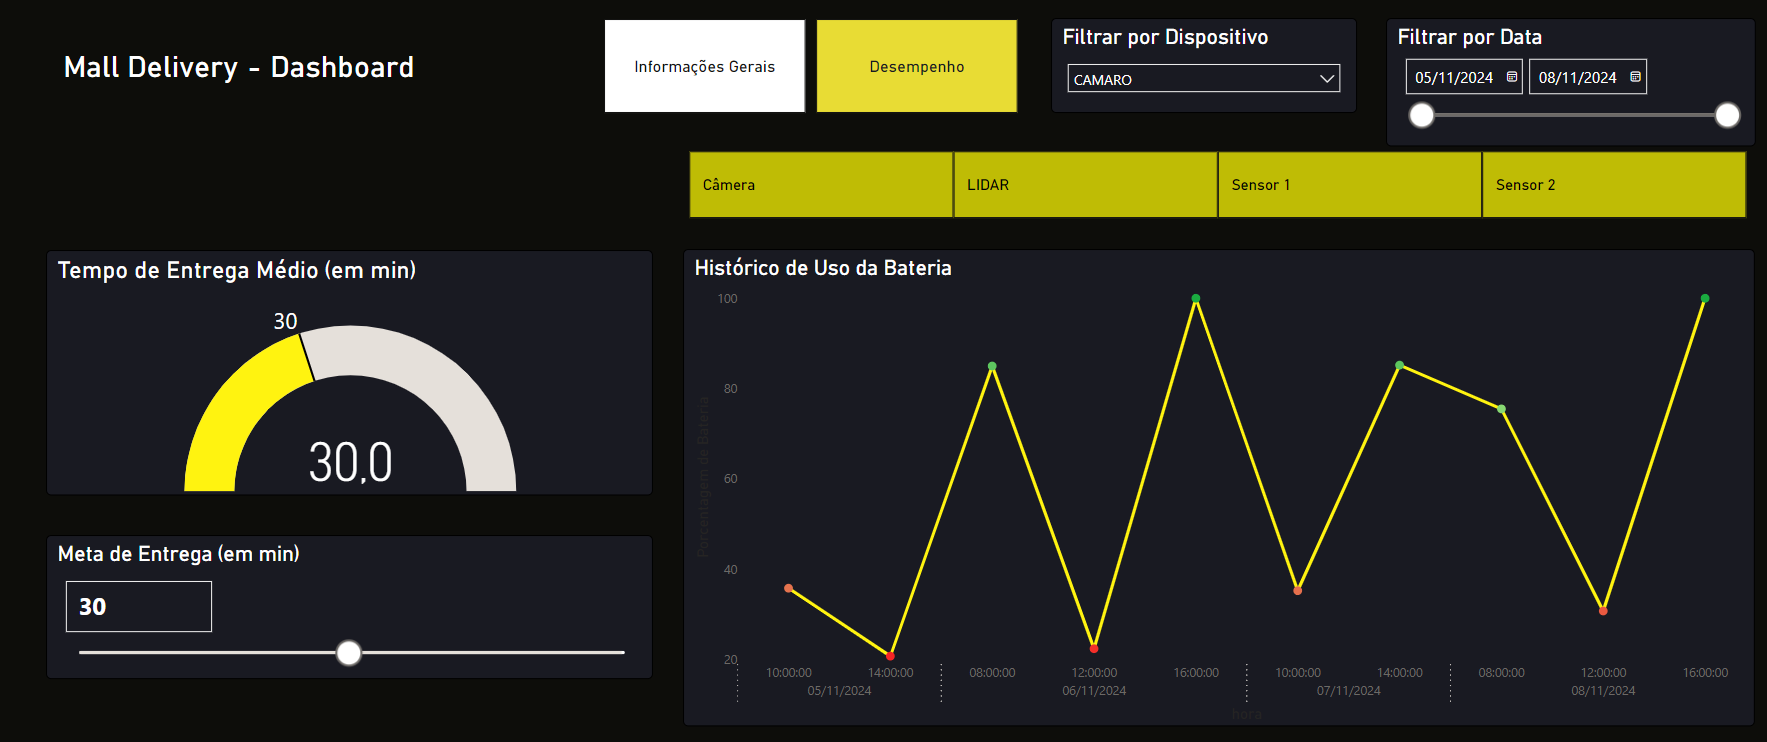

The page's visual inventory and layout, read from the dashboard file:
{"tool":"powerbi","page":{"name":"Desempenho","canvas":[1700,720],"ordinal":1},"visuals":[{"type":"textbox","box":[58.4,44.7,359.7,65.3],"z":0},{"type":"lineChart","title":"Histórico de Uso da Bateria","fields":{"Y":["Max(registro_bateria.porcentagem_bateria)"],"Category":["registro_bateria.data.Variation.Hierarquia de datas.Ano","registro_bateria.hora"]},"box":[656.5,241.3,1026.4,456.8],"z":1000},{"type":"slicer","title":"Filtrar por Data","fields":{"Values":["pedido.data"]},"box":[1329.4,20.1,354.2,122.5],"z":2000},{"type":"slicer","title":"Filtrar por Dispositivo","fields":{"Values":["dispositivo.nome"]},"box":[1008.8,20.1,293,90.6],"z":3000},{"type":"gauge","title":"Tempo de Entrega Médio (em min)","fields":{"TargetValue":["Meta de Tempo de Entrega.Valor Meta de Tempo de Entrega"],"Y":["Avg(pedido.Tempo de Entrega)"]},"box":[47,241.7,580.8,235],"z":4000},{"type":"slicer","title":"Meta de Entrega (em min)","fields":{"Values":["Meta de Tempo de Entrega.Meta de Tempo de Entrega"]},"box":[47,515.3,580.8,137.6],"z":5000},{"type":"pageNavigator","box":[580.8,20.6,397.5,90.5],"z":6000},{"type":"advancedSlicerVisual","fields":{"Values":["registro_bateria.dispositivos_ativos"]},"box":[657.1,142.9,1025.7,74.3],"z":7000}]}

Visuals, with their boxes in screenshot pixels (x1, y1, x2, y2), scaled from the page's 1700x720 canvas onto the 1767x742 screenshot:
textbox: [x1=61, y1=46, x2=435, y2=113]
"Histórico de Uso da Bateria" lineChart: [x1=682, y1=249, x2=1749, y2=719]
"Filtrar por Data" slicer: [x1=1382, y1=21, x2=1750, y2=147]
"Filtrar por Dispositivo" slicer: [x1=1049, y1=21, x2=1353, y2=114]
"Tempo de Entrega Médio (em min)" gauge: [x1=49, y1=249, x2=653, y2=491]
"Meta de Entrega (em min)" slicer: [x1=49, y1=531, x2=653, y2=673]
pageNavigator: [x1=604, y1=21, x2=1017, y2=114]
advancedSlicerVisual - registro_bateria.dispositivos_ativos: [x1=683, y1=147, x2=1749, y2=224]
